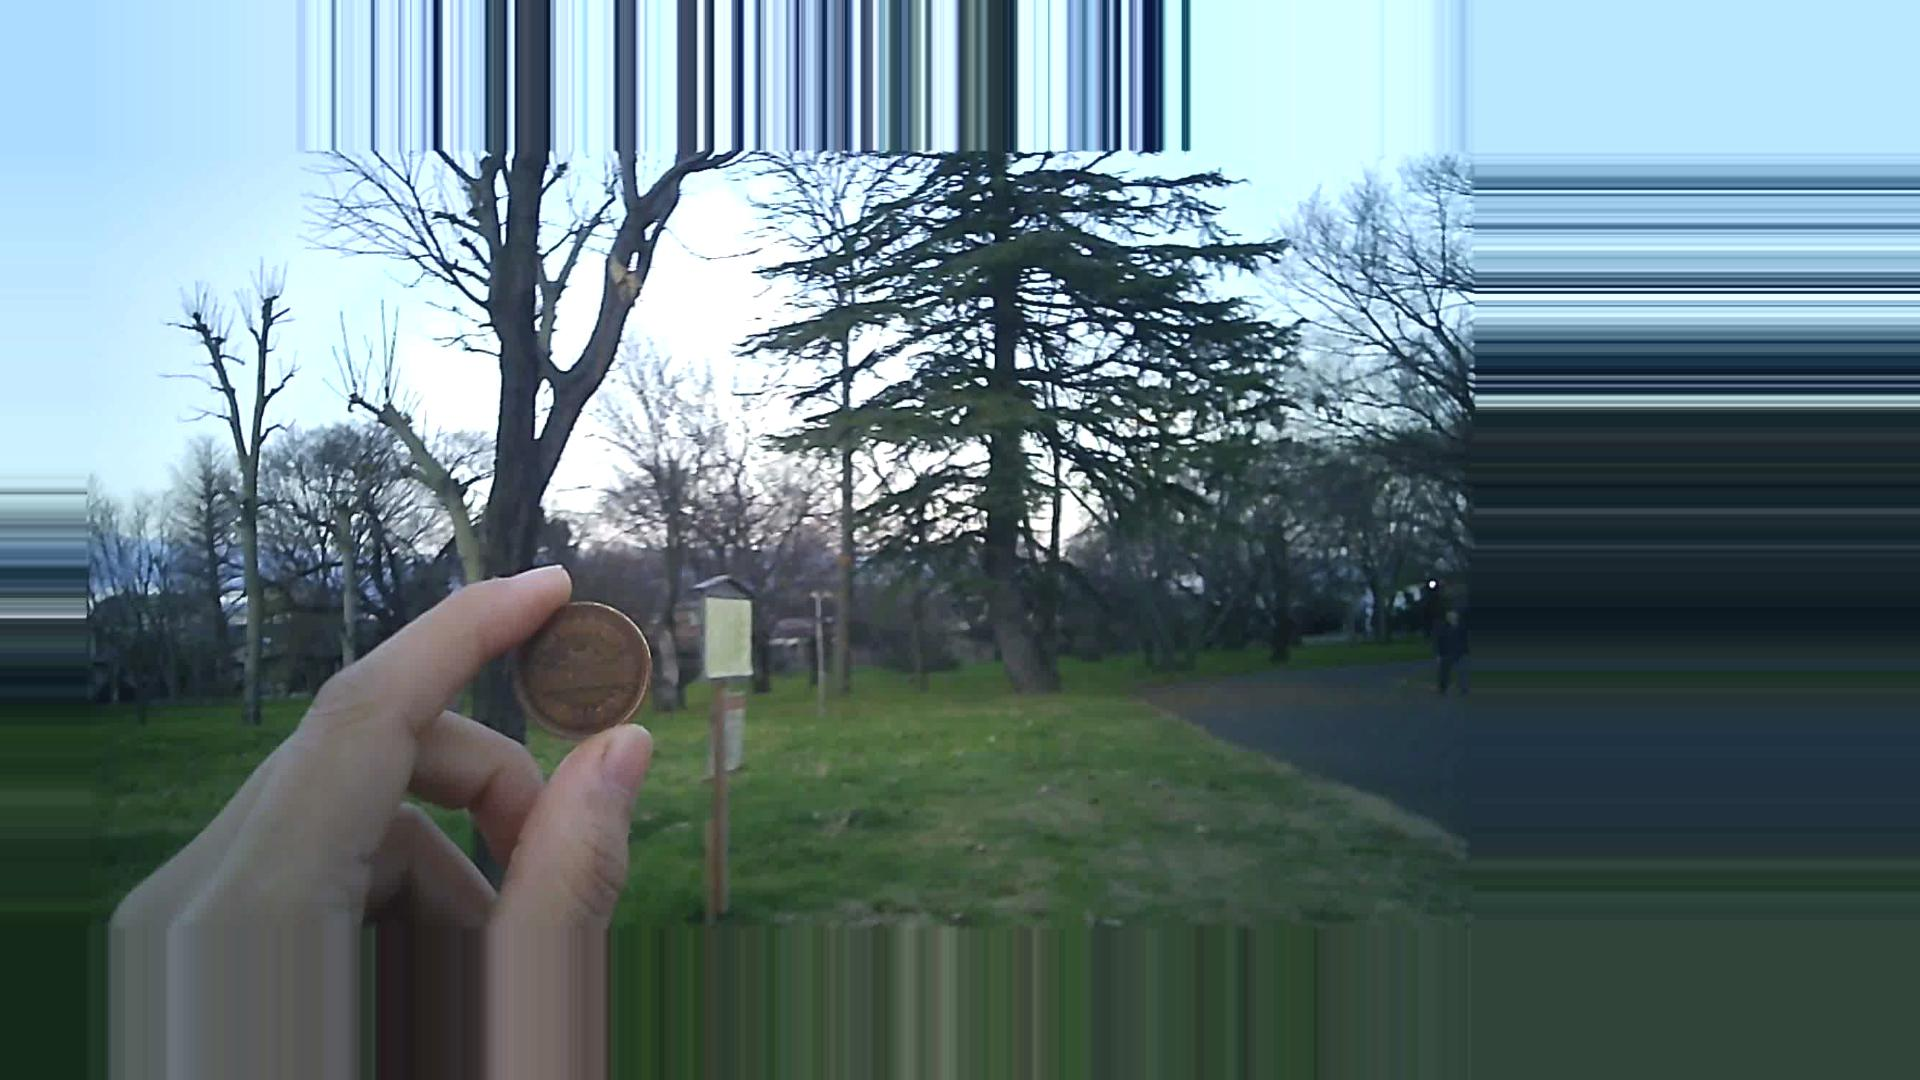10 Yen: (502, 582, 647, 728)
